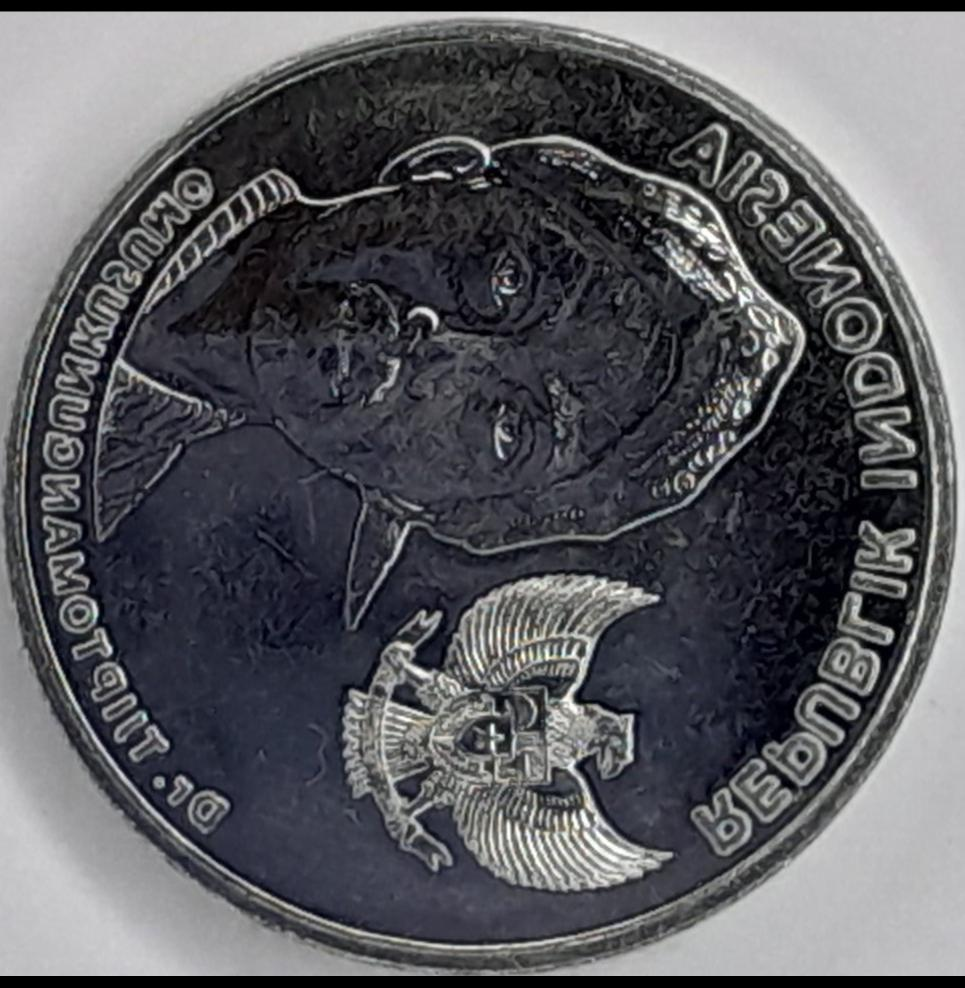coin_200_e2016: (0, 17, 965, 988)
